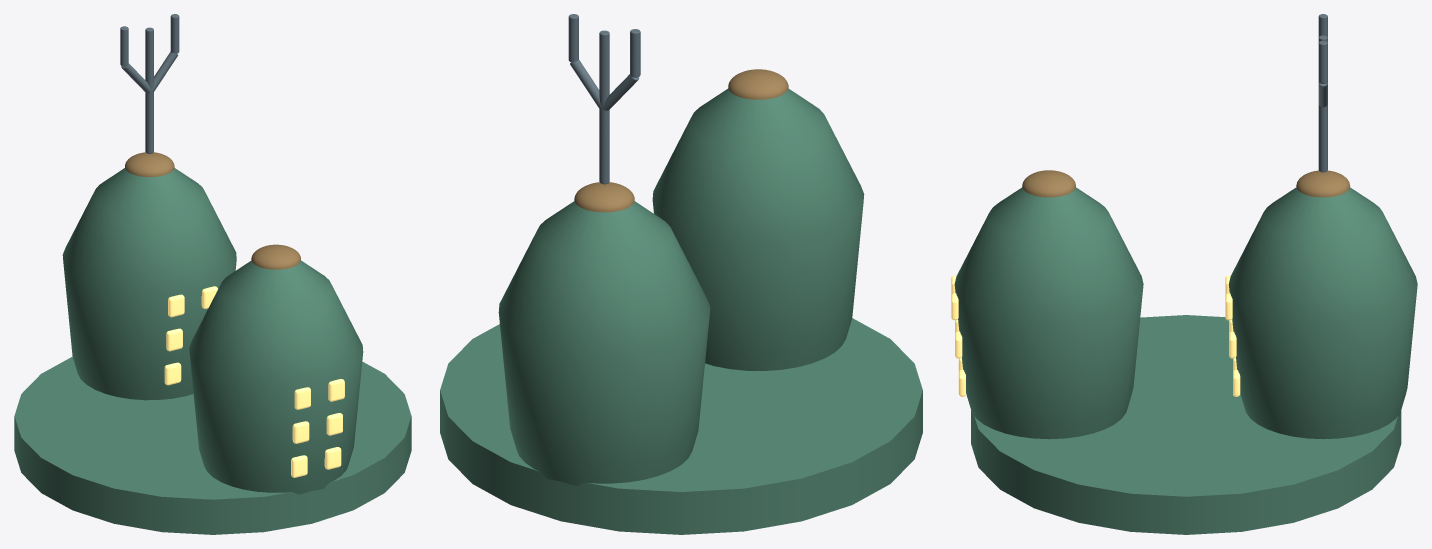
3 views of the same model, side by side, from view 1: azimuth 30°, elevation 25°; view 2: azimuth 150°, elevation 25°; view 3: azimuth 270°, elevation 25° (orthographic). The views are drawn at different scales.
Visible parts, largest first — view 1: Foundation drum, Bulb shaped chamber.001, Bulb shaped chamber, Aerial stem, Tower crown.001, Tower crown; view 2: Foundation drum, Bulb shaped chamber, Bulb shaped chamber.001, Aerial stem, Tower crown.001, Tower crown; view 3: Foundation drum, Bulb shaped chamber, Bulb shaped chamber.001, Tower crown.001, Tower crown, Aerial stem.
Part boxes in pixels (left/top/right/bottom): Foundation drum: left=14, top=356, right=411, bottom=534; Bulb shaped chamber.001: left=189, top=260, right=363, bottom=494; Bulb shaped chamber: left=62, top=168, right=236, bottom=400; Aerial stem: left=145, top=27, right=153, bottom=153; Tower crown.001: left=251, top=244, right=300, bottom=269; Tower crown: left=125, top=152, right=174, bottom=177; Foundation drum: left=440, top=318, right=922, bottom=534; Bulb shaped chamber: left=498, top=201, right=710, bottom=485; Bulb shaped chamber.001: left=652, top=88, right=864, bottom=370; Aerial stem: left=599, top=30, right=609, bottom=184; Tower crown.001: left=728, top=69, right=788, bottom=99; Tower crown: left=574, top=182, right=634, bottom=212; Foundation drum: left=971, top=315, right=1401, bottom=534; Bulb shaped chamber: left=1228, top=187, right=1417, bottom=439; Bulb shaped chamber.001: left=954, top=187, right=1143, bottom=439; Tower crown.001: left=1022, top=170, right=1075, bottom=197; Tower crown: left=1296, top=170, right=1349, bottom=197; Aerial stem: left=1318, top=35, right=1327, bottom=172.
Bounding box in the file's own units: 2.04 × 2.17 × 2.21.
